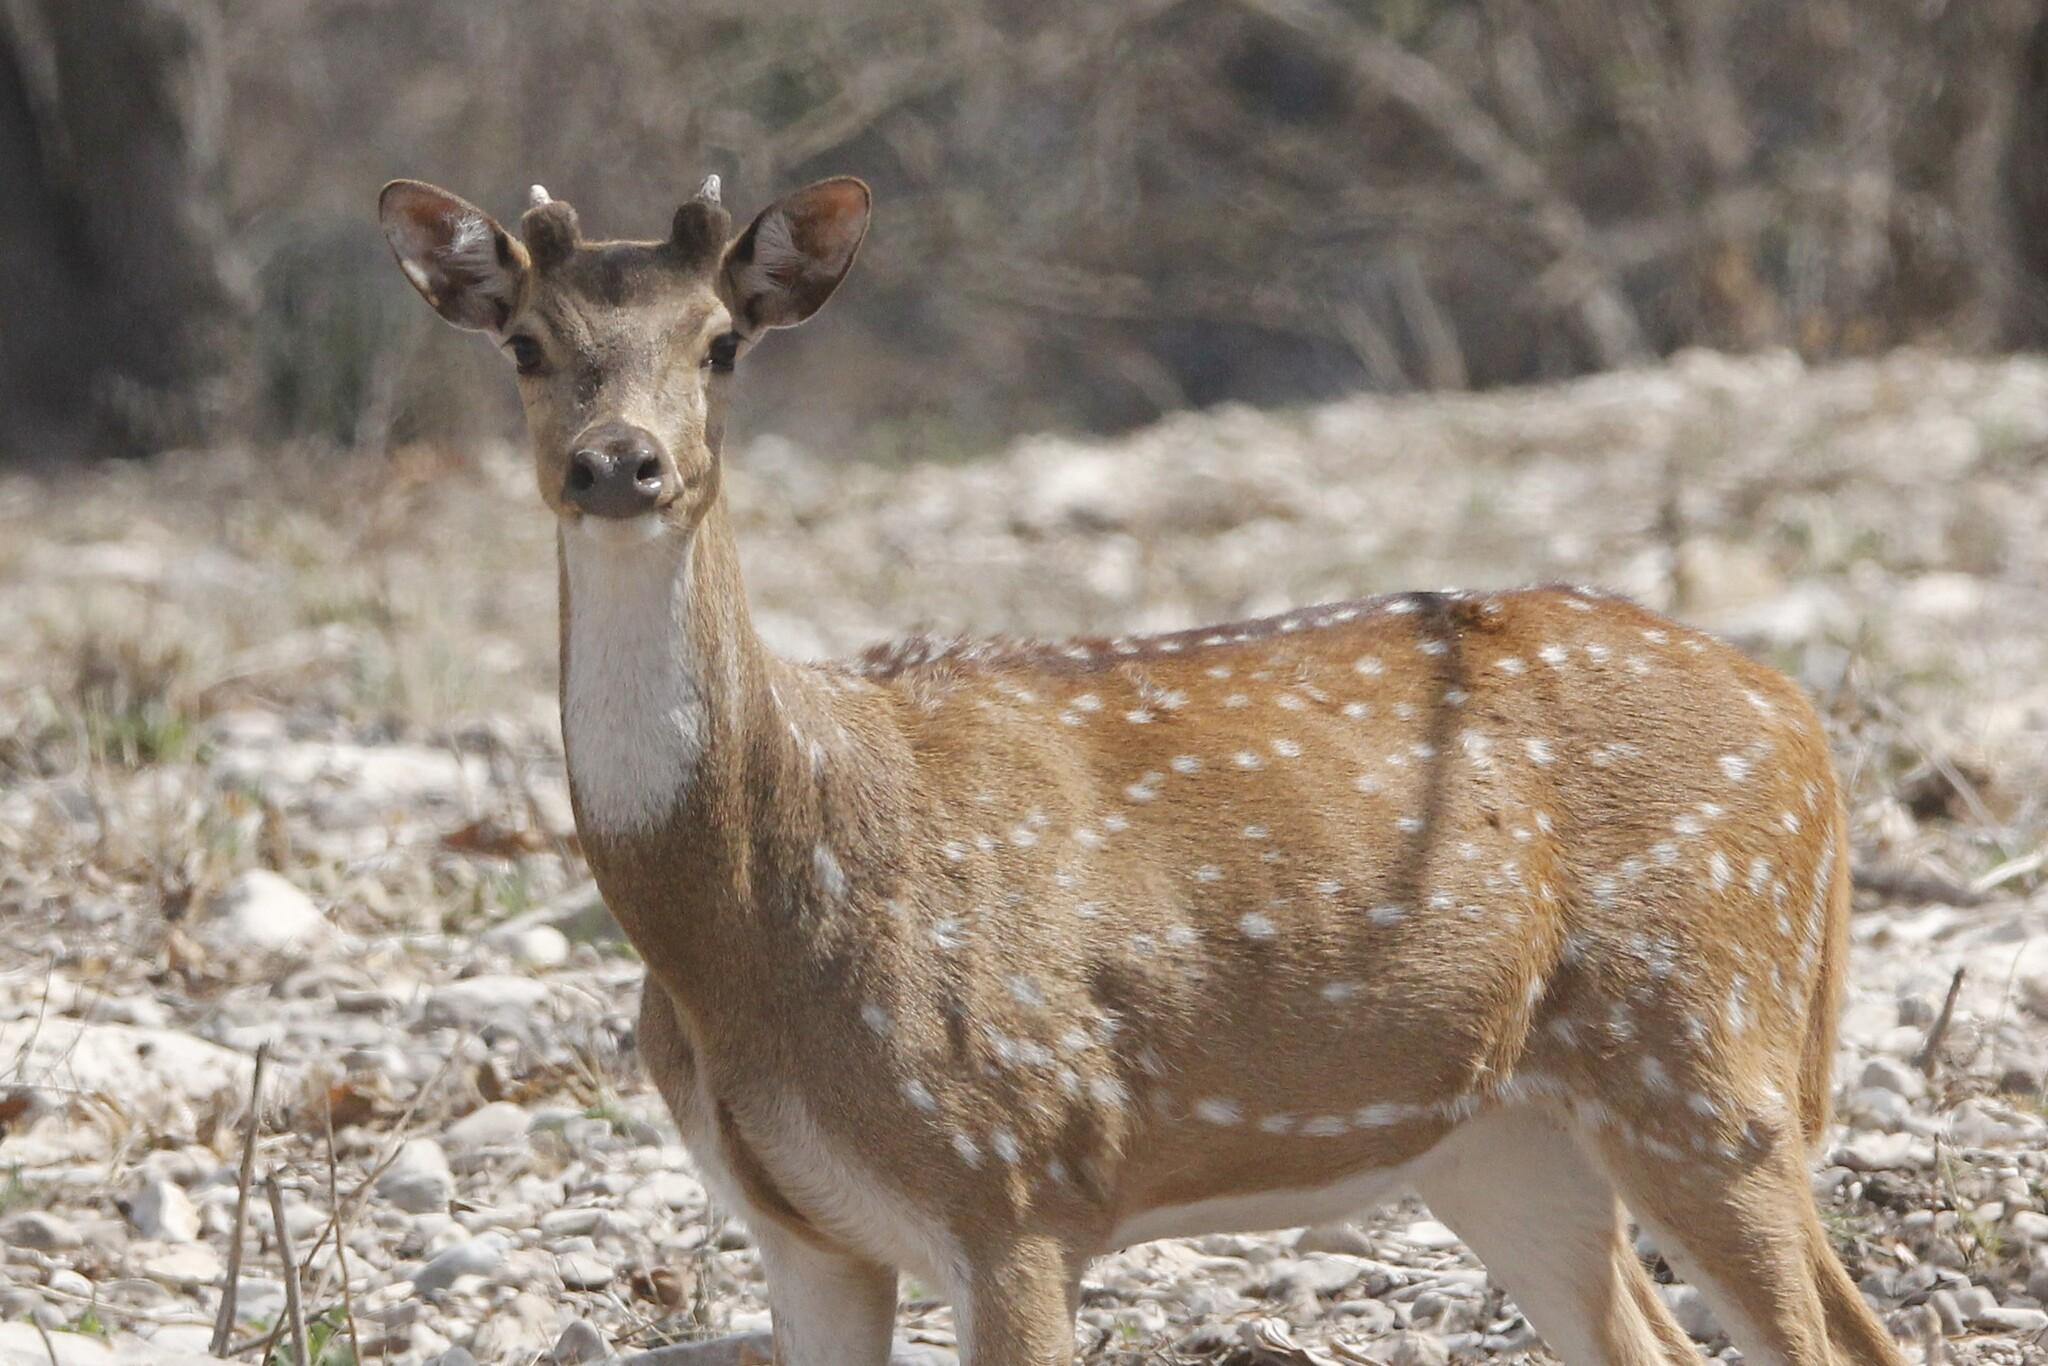Deer: (378, 177, 1902, 1364)
